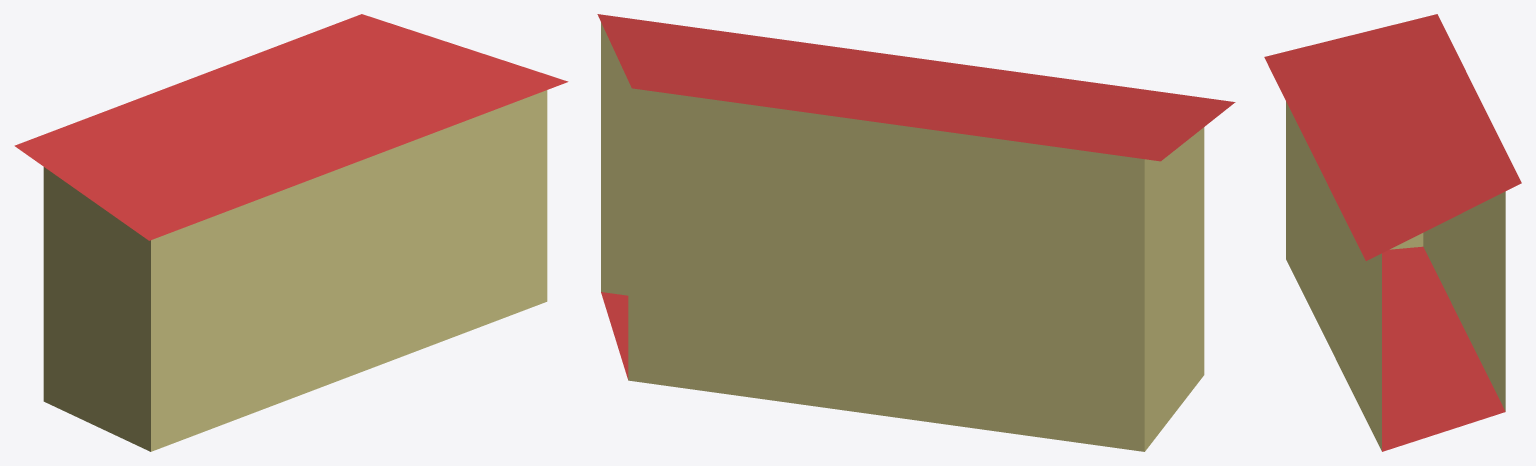
The picture shows the model from 3 angles, left to right: view 1: azimuth 30°, elevation 25°; view 2: azimuth 150°, elevation 25°; view 3: azimuth 270°, elevation 25°; orthographic projection. The views are drawn at different scales.
Bounding box in the file's own units: 14.17 × 7.03 × 6.72.
